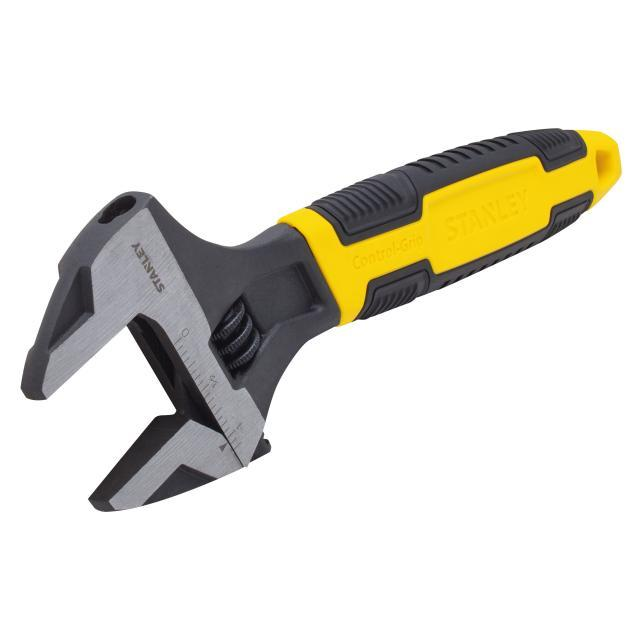wrench: (15, 120, 628, 520)
